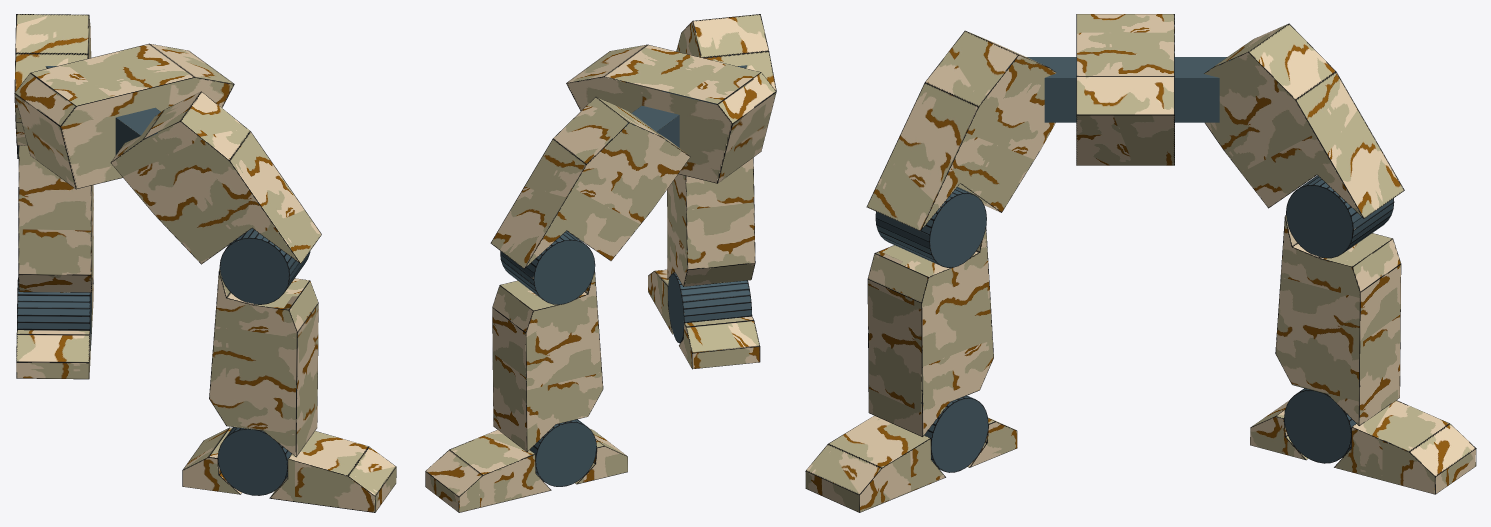
Rendered from Leg.obj.
3 views of the same model, side by side, from view 1: azimuth 30°, elevation 25°; view 2: azimuth 150°, elevation 25°; view 3: azimuth 270°, elevation 25° (orthographic). The views are drawn at different scales.
Visible parts, largest first — view 1: Leg.018, Cube.001; view 2: Leg.018, Cube.001; view 3: Leg.018, Cube.001.
Boxes of the visible parts, x1=… form: Leg.018: x1=14, y1=14, x2=396, y2=512; Cube.001: x1=45, y1=66, x2=160, y2=154; Leg.018: x1=425, y1=14, x2=776, y2=512; Cube.001: x1=609, y1=54, x2=747, y2=147; Leg.018: x1=805, y1=14, x2=1476, y2=512; Cube.001: x1=1005, y1=57, x2=1230, y2=122.
Size of the model in its own units: 2.97 by 4.42 by 6.81.
2 materials, 2 textured.
